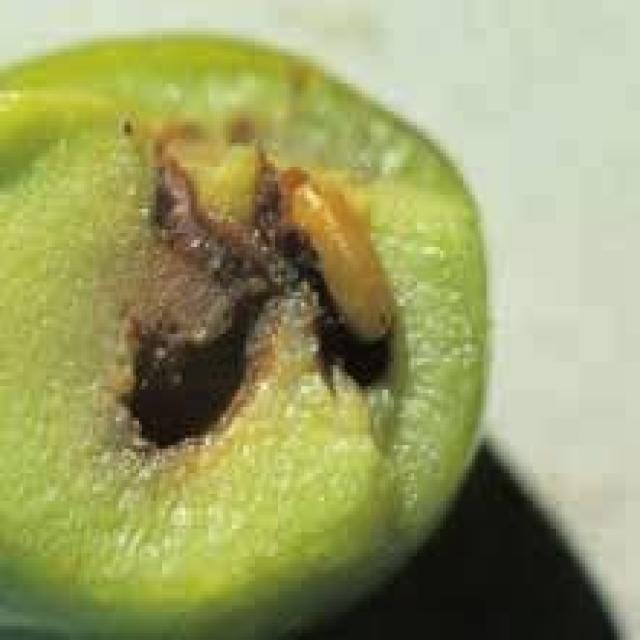Anthracnose: (0, 38, 487, 630)
